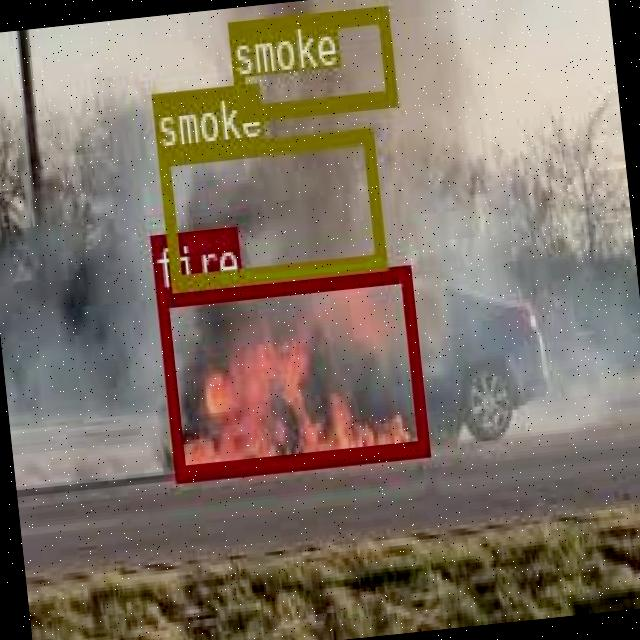fire: (154, 263, 426, 480)
smoke: (155, 124, 385, 288), (225, 2, 395, 119)
